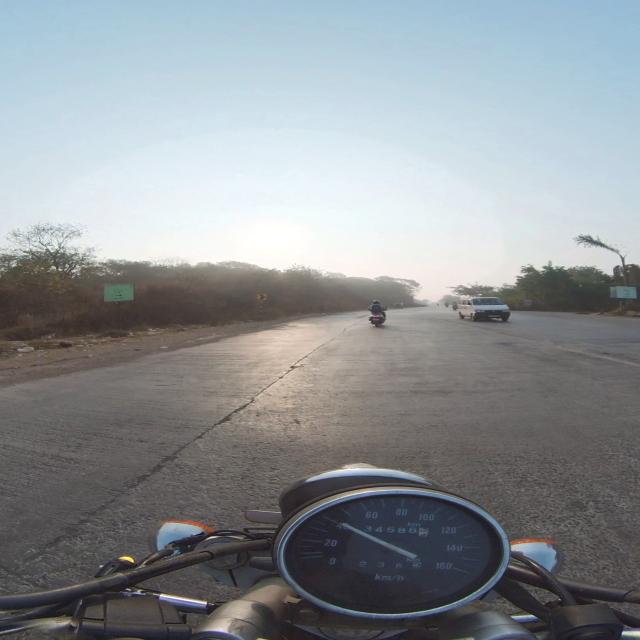car: (459, 297, 510, 321)
motorcycle: (0, 465, 639, 639), (368, 312, 386, 327)
